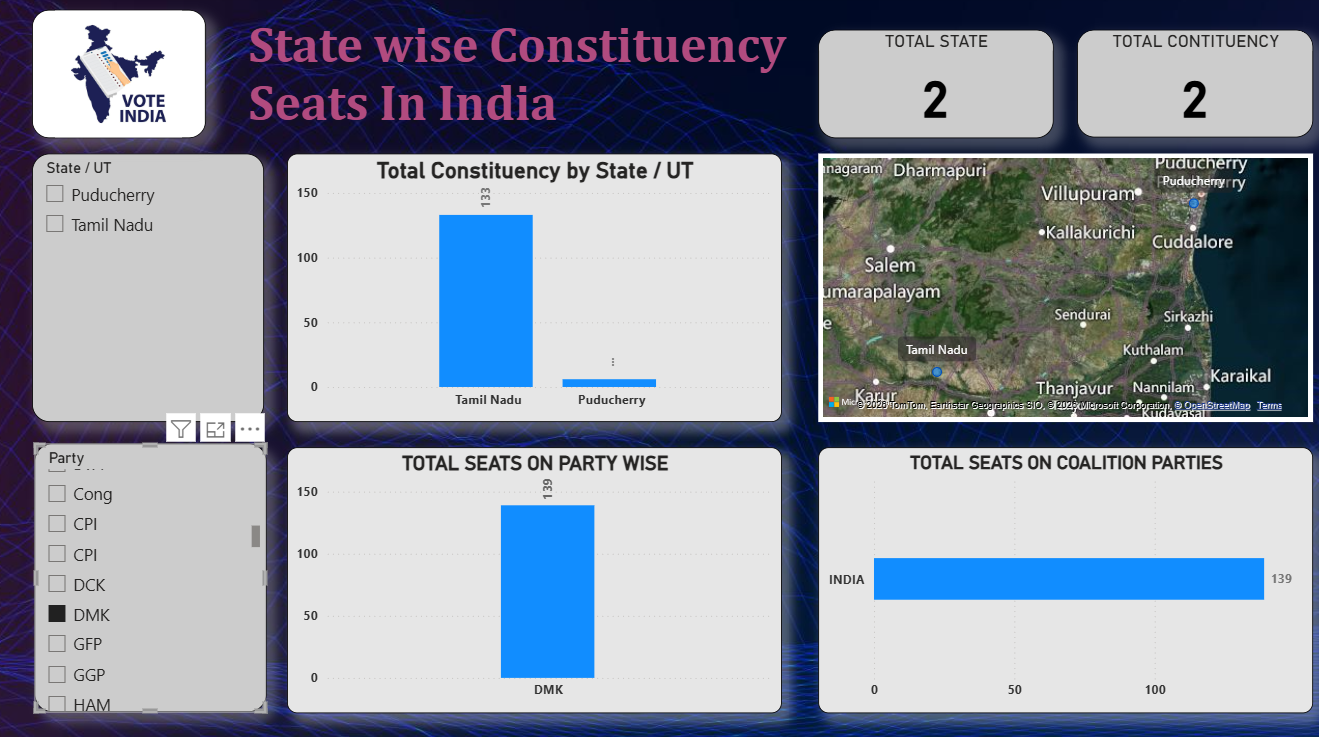

The dashboard page shown, as its layout file describes it:
{"tool":"powerbi","page":{"name":"Page 1","canvas":[1280,720],"ordinal":0},"visuals":[{"type":"card","title":"TOTAL STATE","fields":{"Values":["Count(Data.State / UT)"]},"box":[792.6,32.6,226.8,105],"z":0},{"type":"card","title":"TOTAL CONTITUENCY","fields":{"Values":["Count(Data.Total Constituency)"]},"box":[1042.4,32.6,228,103.8],"z":1000},{"type":"columnChart","title":"Total Constituency by State / UT","fields":{"Category":["Data.State / UT"],"Y":["Sum(Data.Total Constituency)"]},"box":[279.9,152.3,477.5,259.3],"z":2000},{"type":"map","fields":{"Category":["Data.State / UT"]},"box":[793.1,152.3,477.5,259.3],"z":3000},{"type":"columnChart","title":"TOTAL SEATS ON PARTY WISE","fields":{"Y":["Sum(Data.Total Constituency)"],"Category":["Data.Party"]},"box":[279.9,435,477.5,256.6],"z":4000},{"type":"clusteredBarChart","title":"TOTAL SEATS ON COALITION PARTIES","fields":{"Category":["Data.NDA / INDI"],"Y":["Sum(Data.Total Constituency)"]},"box":[793.1,435,477.5,256.6],"z":5000},{"type":"slicer","fields":{"Values":["Data.State / UT"]},"box":[34.3,152.3,223.7,259.3],"z":6000},{"type":"slicer","fields":{"Values":["Data.Party"]},"box":[35.7,432.2,223.7,259.3],"z":7000},{"type":"textbox","box":[237.4,13.7,544.8,138.6],"z":8000},{"type":"image","box":[33.8,13.3,167.7,124.3],"z":9000}]}

Visuals, with their boxes in screenshot pixels (x1, y1, x2, y2), scaled from the page's 1280x720 canvas onto the 1319x737 screenshot:
"TOTAL STATE" card: 817, 33, 1050, 141
"TOTAL CONTITUENCY" card: 1074, 33, 1309, 140
"Total Constituency by State / UT" columnChart: 288, 156, 780, 421
map - Data.State / UT: 817, 156, 1309, 421
"TOTAL SEATS ON PARTY WISE" columnChart: 288, 445, 780, 708
"TOTAL SEATS ON COALITION PARTIES" clusteredBarChart: 817, 445, 1309, 708
slicer - Data.State / UT: 35, 156, 266, 421
slicer - Data.Party: 37, 442, 267, 708
textbox: 245, 14, 806, 156
image: 35, 14, 208, 141
